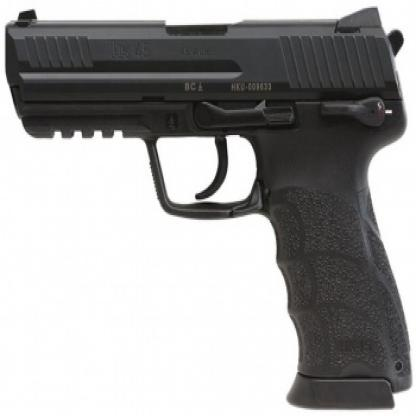Guns: (1, 3, 415, 415)
